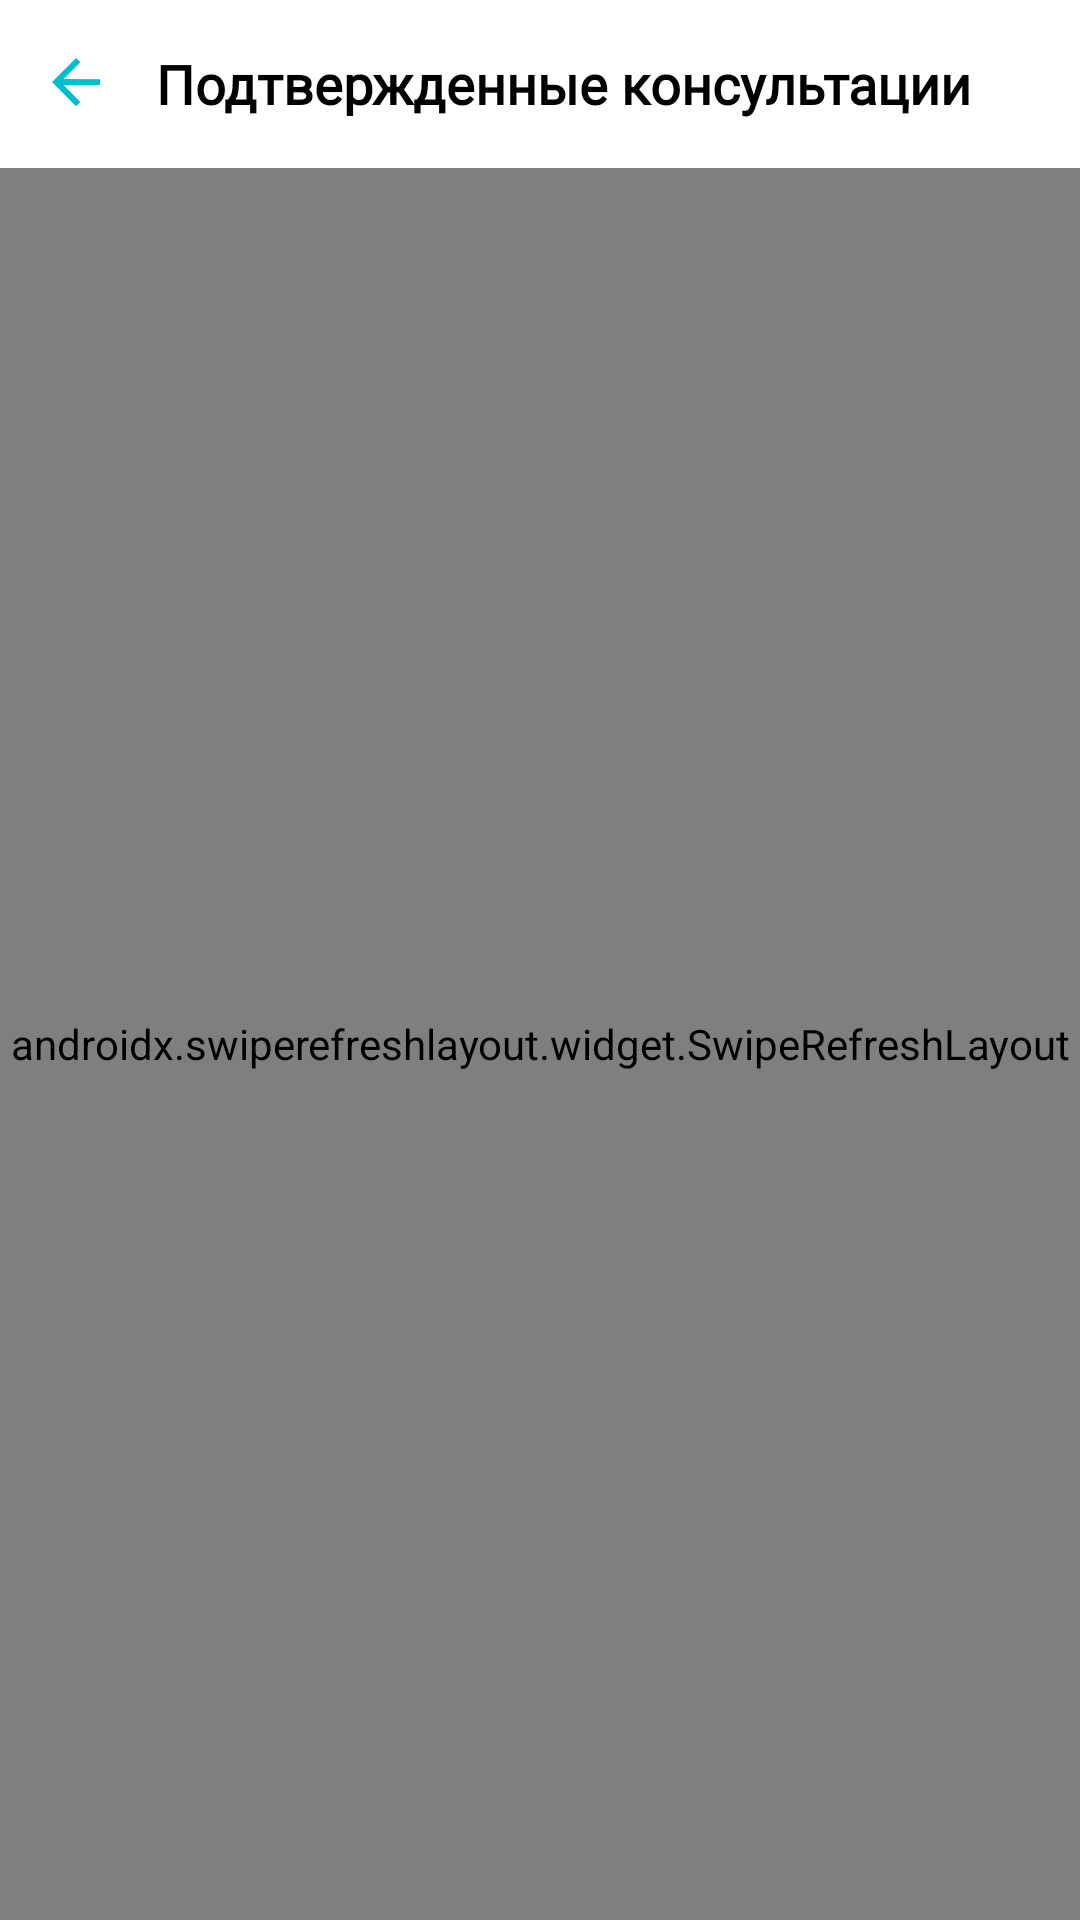

Named icons in this screenshot (1080*1920) and their centers, point (x, y):
arrow back: point (76, 82)
